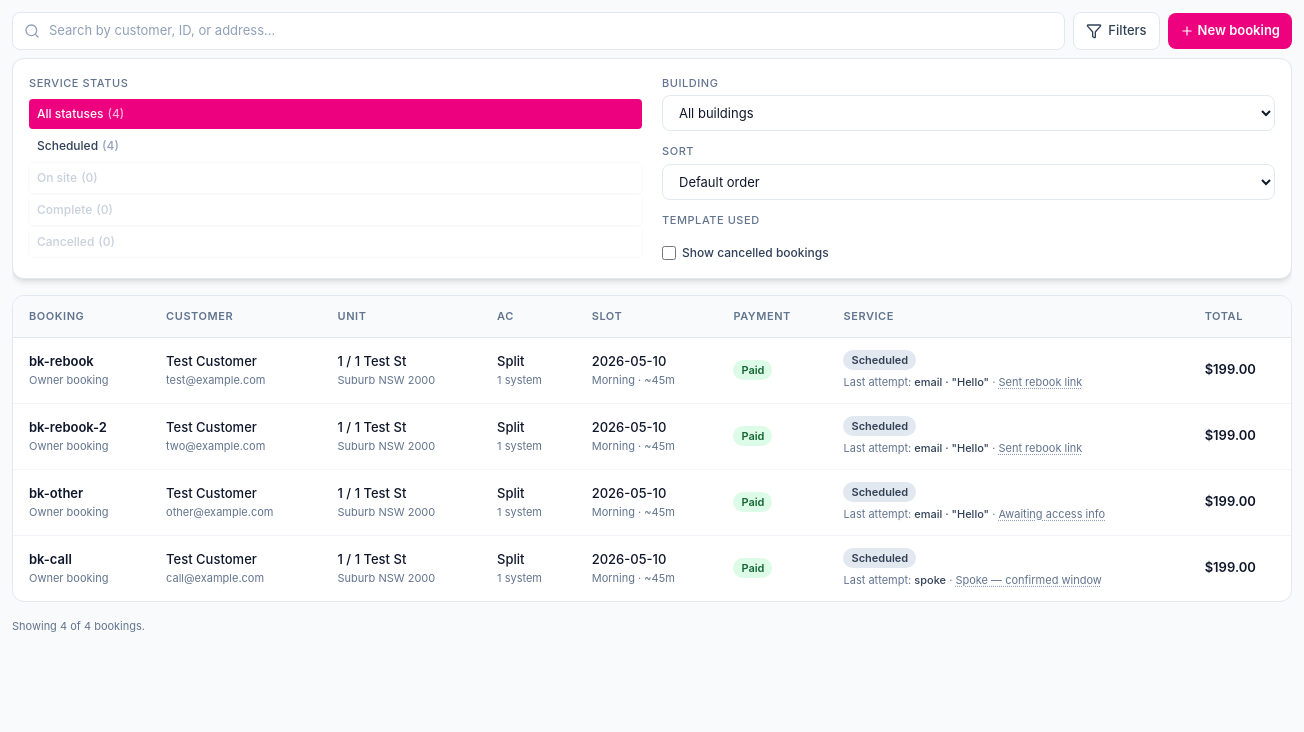
Test: BookingsView — template filter pivot › filters the table to rows whose latest touch used the clicked template
The image size is (1304, 732).
Click the 1st button with test id "bookings-row-last-attempt-template": (1040, 382) [998,374,1082,390]
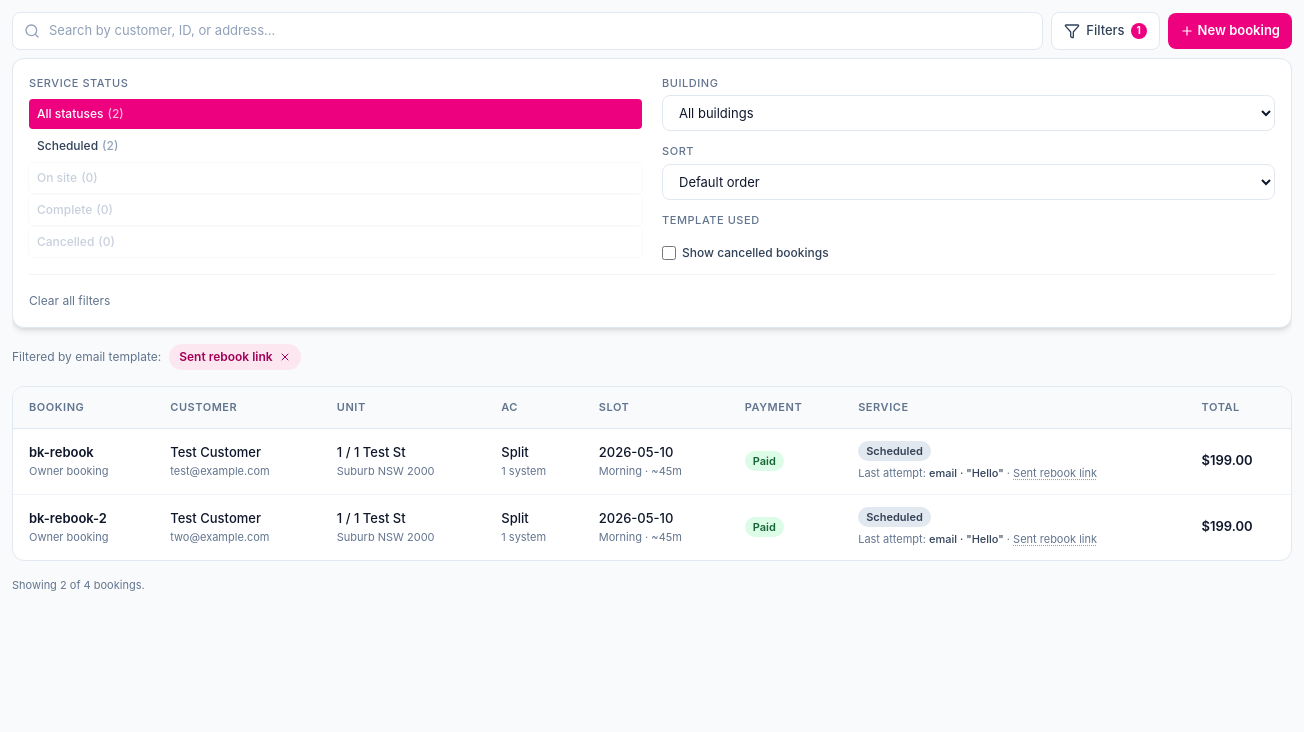
Now the element with test id "bookings-template-filter-chip" shows "Sent rebook link", box [169,344,301,370]
